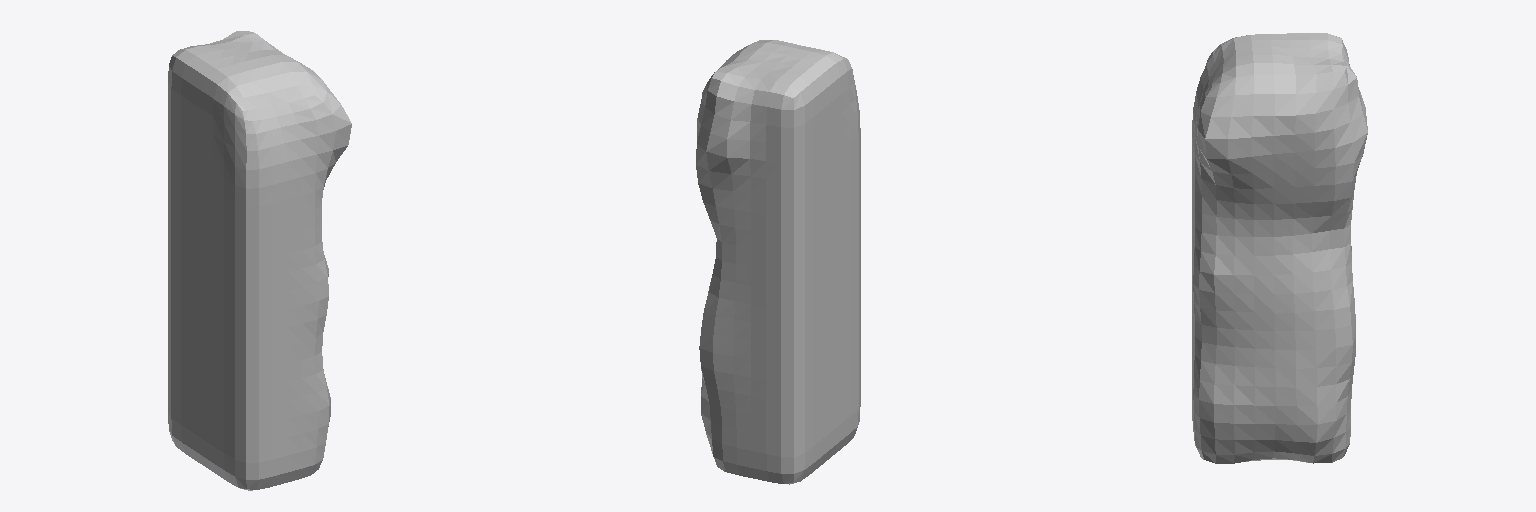
Rendered from PM3D_rock010_005.OBJ.
3 views of the same model, side by side, from view 1: azimuth 30°, elevation 25°; view 2: azimuth 150°, elevation 25°; view 3: azimuth 270°, elevation 25° (orthographic).
Parts seen in each view (by area): view 1: Group39581; view 2: Group39581; view 3: Group39581.
Boxes of the visible parts, <box> form: Group39581: <box>168,31,351,490</box>; Group39581: <box>696,40,860,484</box>; Group39581: <box>1192,33,1367,463</box>.
Size of the model in its own units: 1323 by 4184 by 1659.